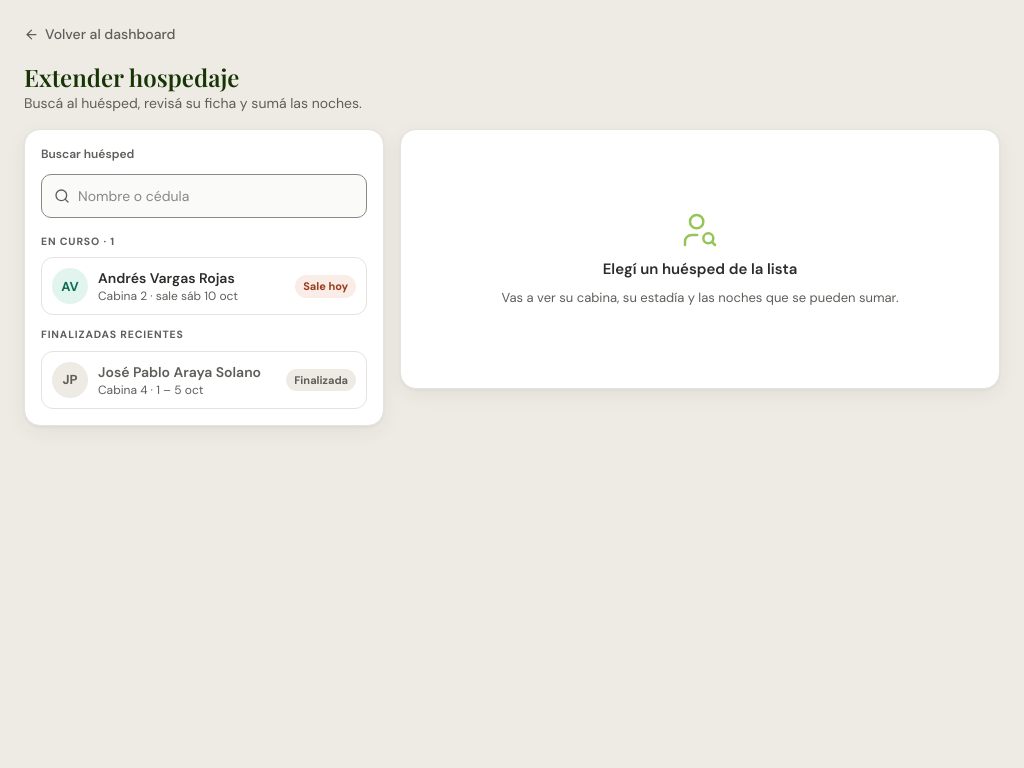
Test: HU-127 pantalla Extender hospedaje › al elegir un huésped muestra su ficha y cotiza +1 noche
Click the text "Andrés Vargas Rojas". click: (166, 278)
box: [98, 269, 235, 287]
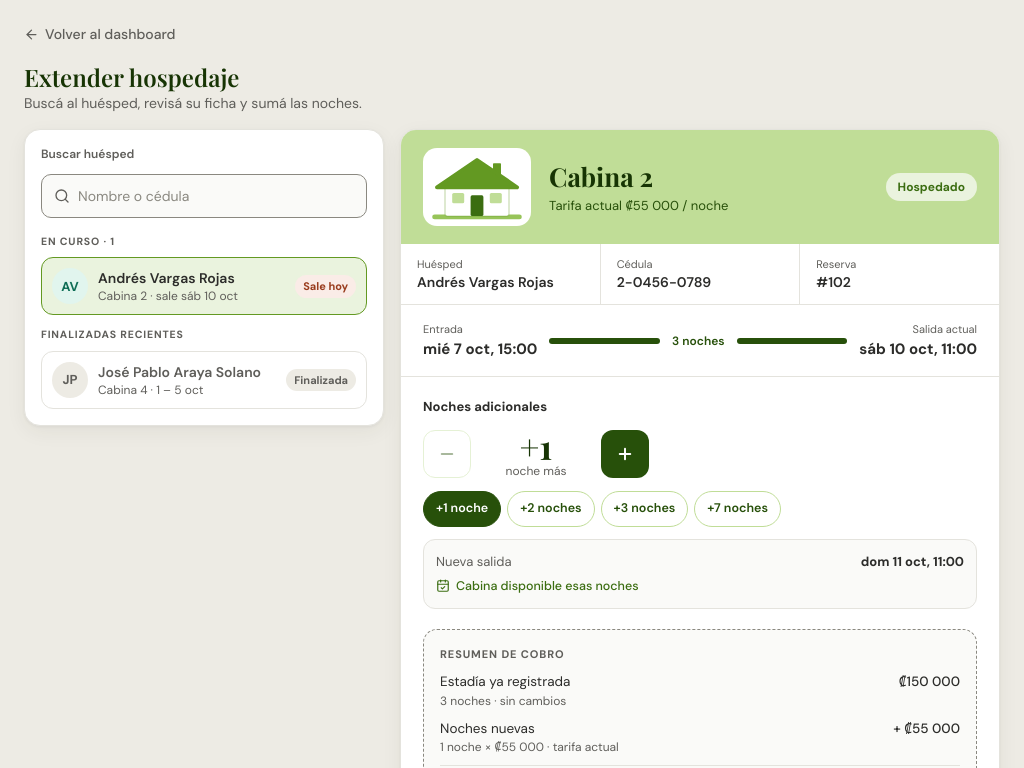
expect the text "2-0456-0789" is shown: met, box [617, 273, 711, 291]
expect the heading "Cabina 2" is shown: met, box [549, 159, 653, 194]
expect the text "Cabina disponible esas noches" is shown: met, box [436, 578, 638, 594]
